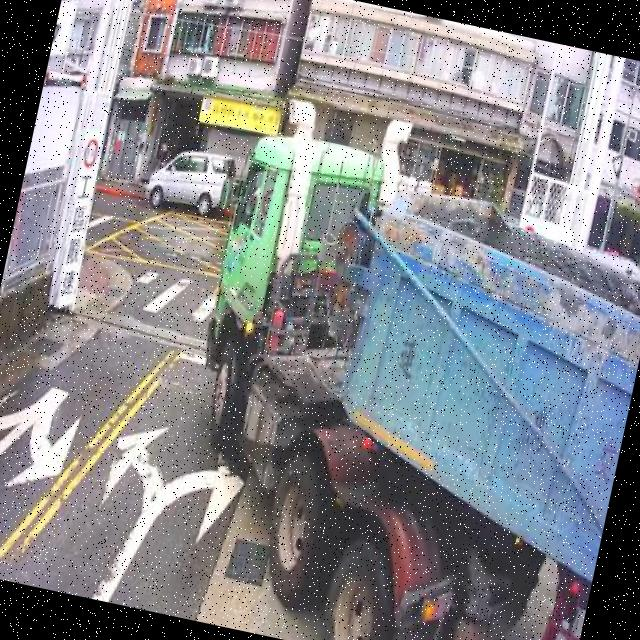Dump Truck: (130, 81, 640, 640)
